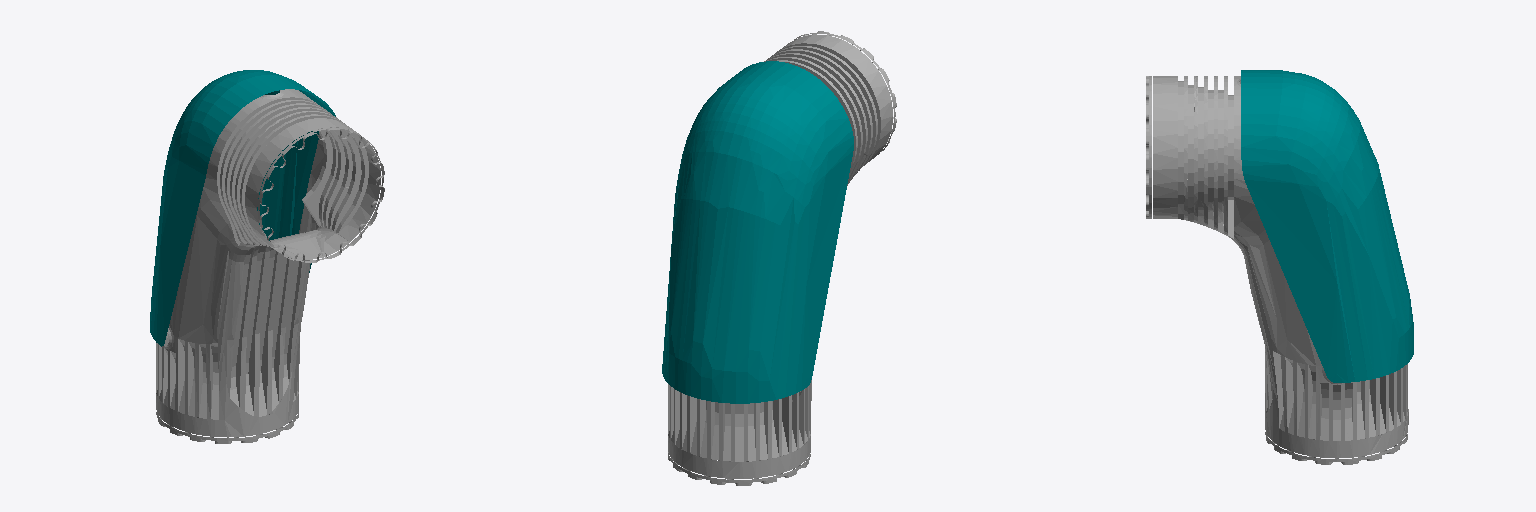
File: arm-L2.obj
The picture shows the model from 3 angles: view 1: azimuth 30°, elevation 25°; view 2: azimuth 150°, elevation 25°; view 3: azimuth 270°, elevation 25°; orthographic projection.
Visible parts, largest first — view 1: __TMPOBJ_____TMPMESH__.059; view 2: __TMPOBJ_____TMPMESH__.059; view 3: __TMPOBJ_____TMPMESH__.059.
Part boxes in pixels (bbox=[...]): __TMPOBJ_____TMPMESH__.059: bbox=[150, 70, 384, 443]; __TMPOBJ_____TMPMESH__.059: bbox=[662, 31, 896, 485]; __TMPOBJ_____TMPMESH__.059: bbox=[1146, 70, 1413, 464].
Bounding box in the file's own units: 0.0808 × 0.2037 × 0.1387.